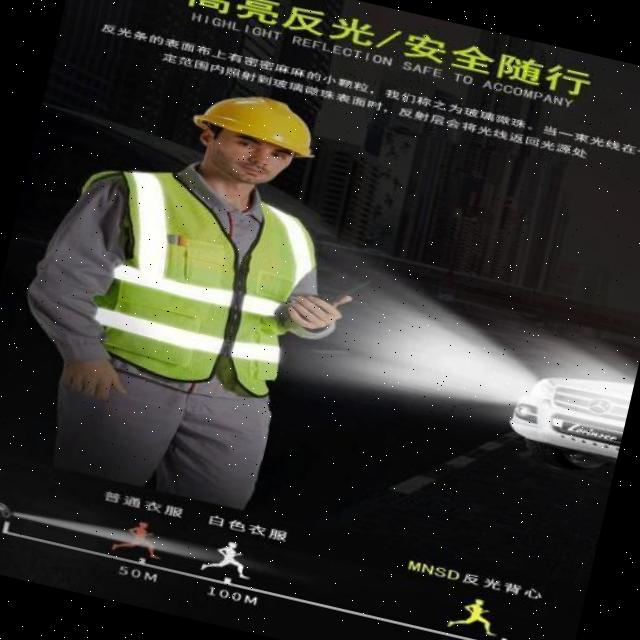vest: (80, 154, 322, 407)
